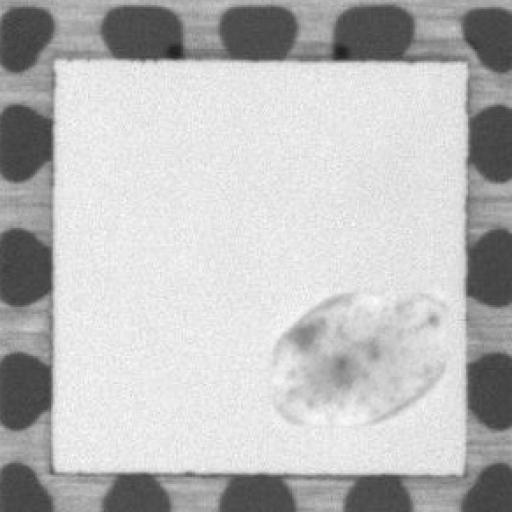DIE_INK: (261, 283, 451, 431)
